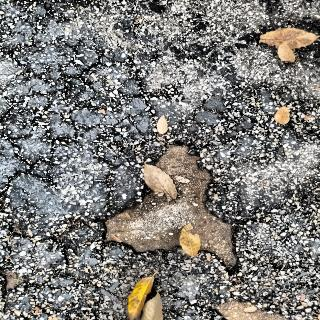alligator-crack: (0, 18, 100, 214)
pothole: (103, 140, 265, 290), (211, 299, 297, 320)
